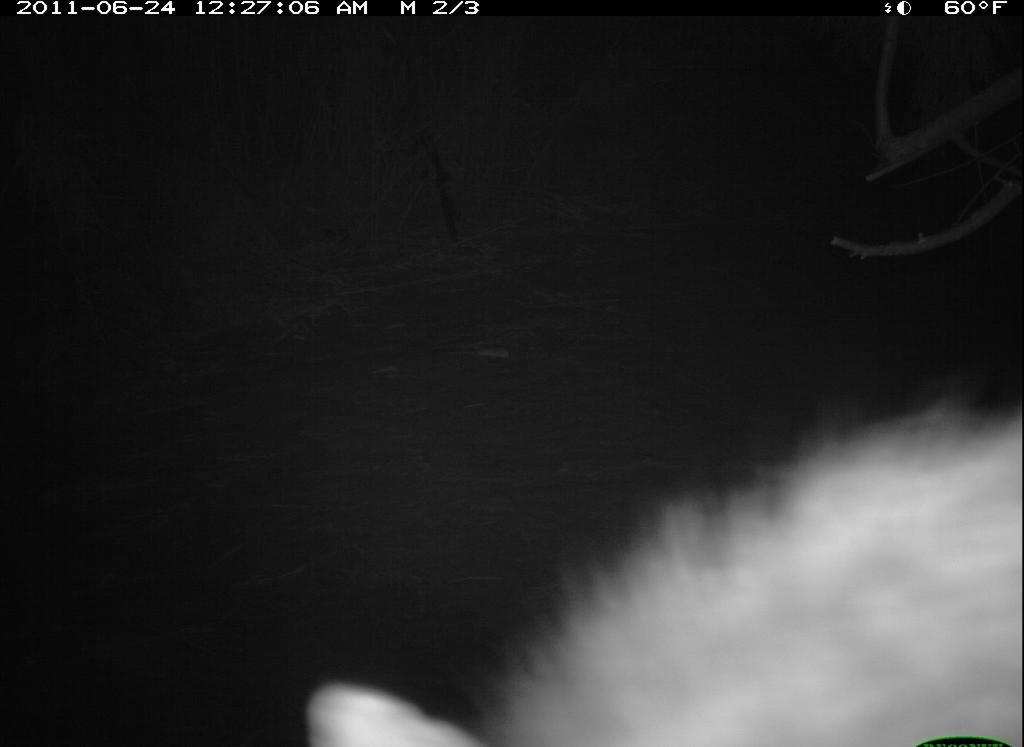raccoon: (301, 382, 1019, 747)
